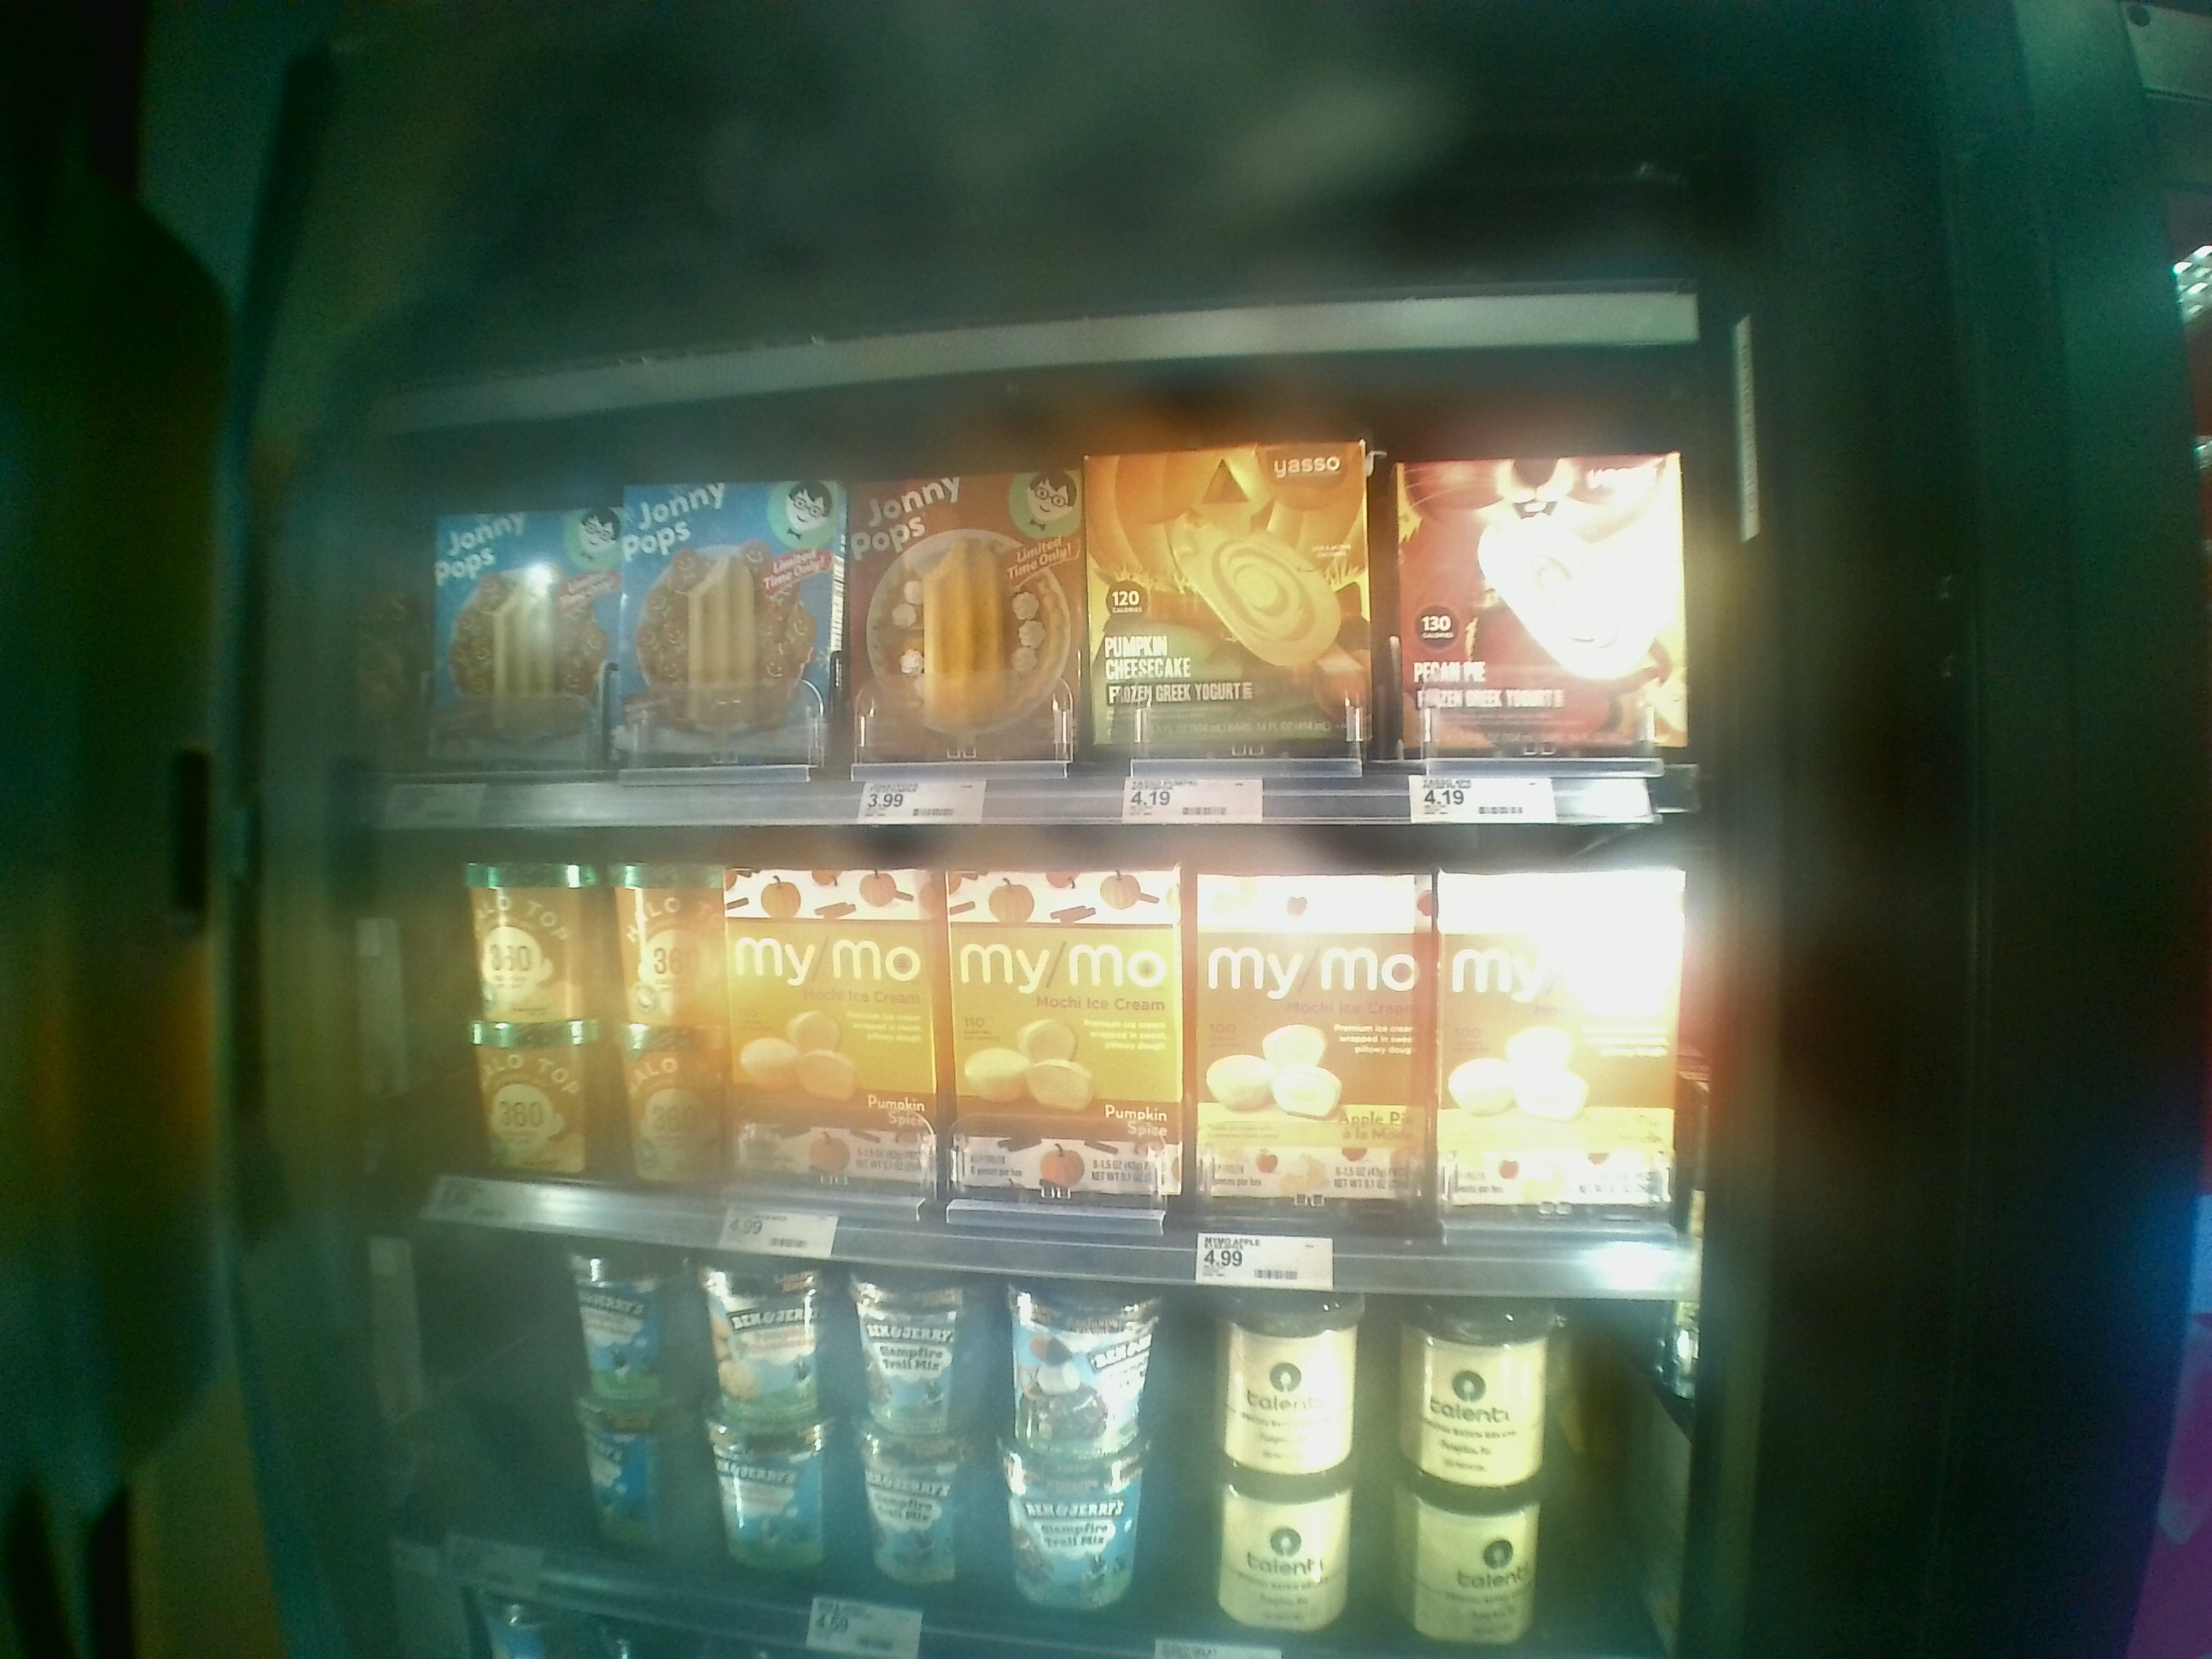shelf: (327, 796, 1724, 1300), (341, 376, 1705, 828)
